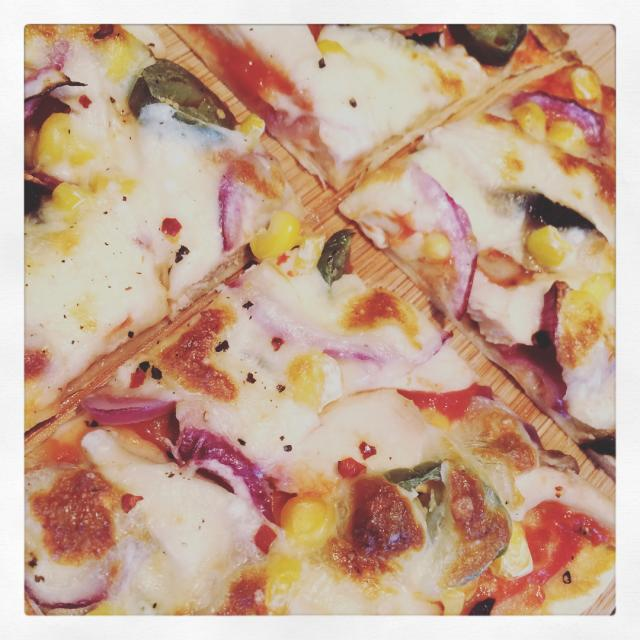pizza: (22, 24, 618, 618)
